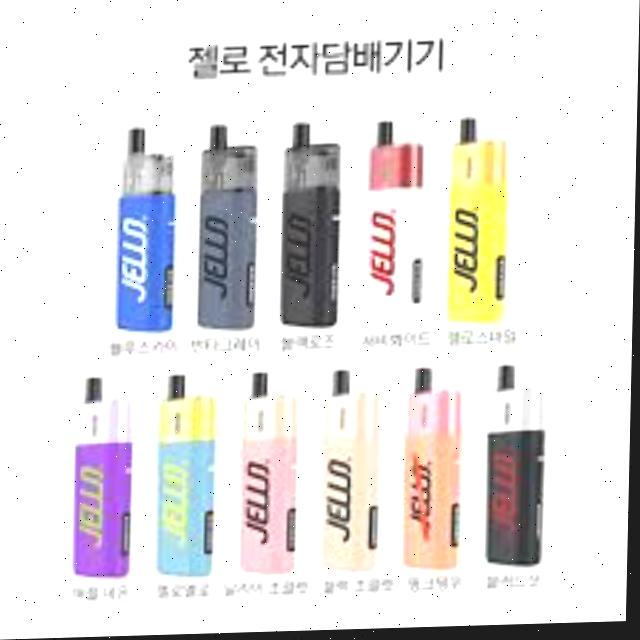vape: (156, 370, 221, 581), (239, 370, 304, 581), (448, 118, 512, 328), (199, 123, 261, 334), (322, 369, 385, 576), (117, 125, 179, 334), (281, 123, 343, 332), (74, 377, 137, 582), (486, 366, 549, 571), (366, 121, 428, 328), (404, 369, 465, 573)
